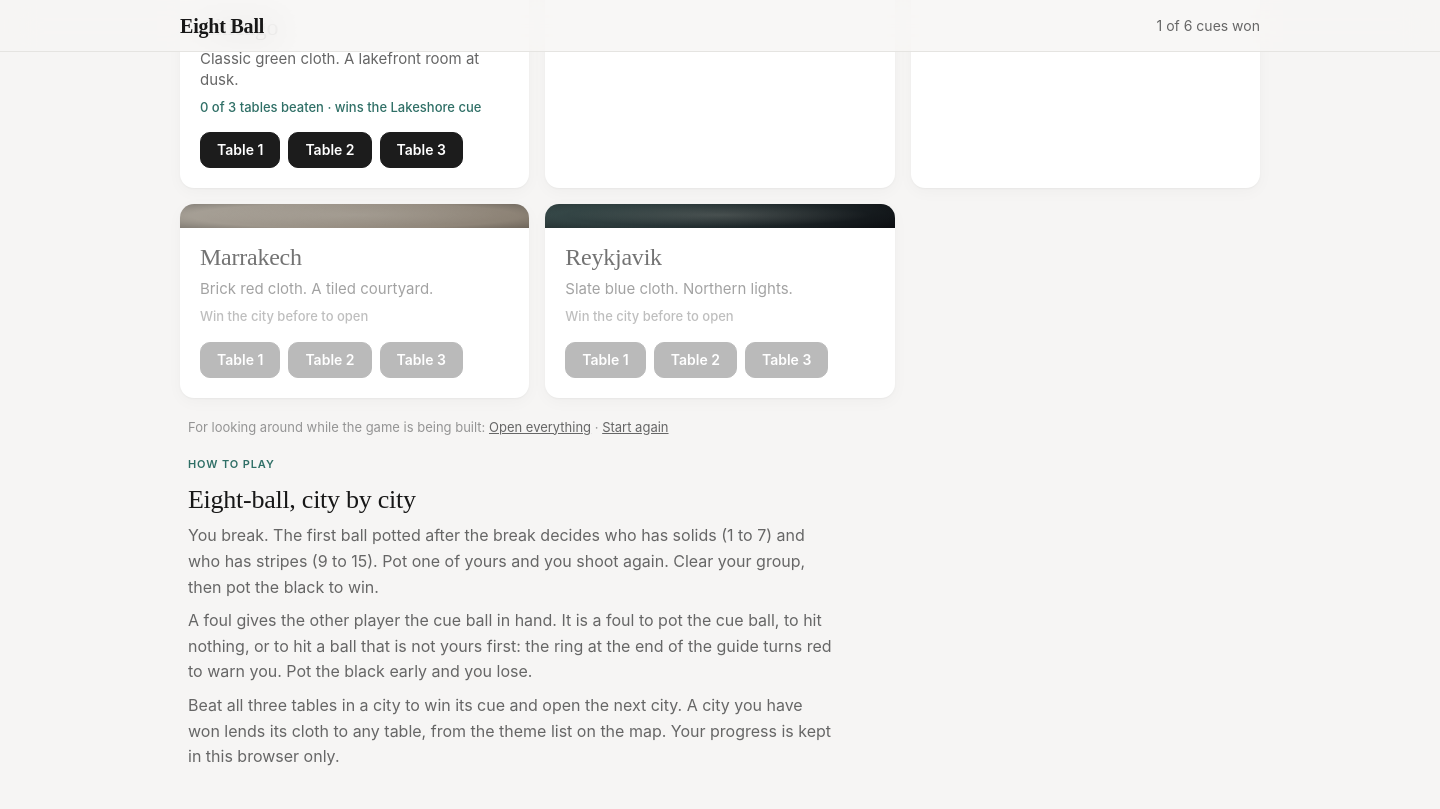
Test: the map › opens everything, and starts again
(page scrolled)
Click the button "Open everything".
click(540, 427)  # box [489,418,591,436]
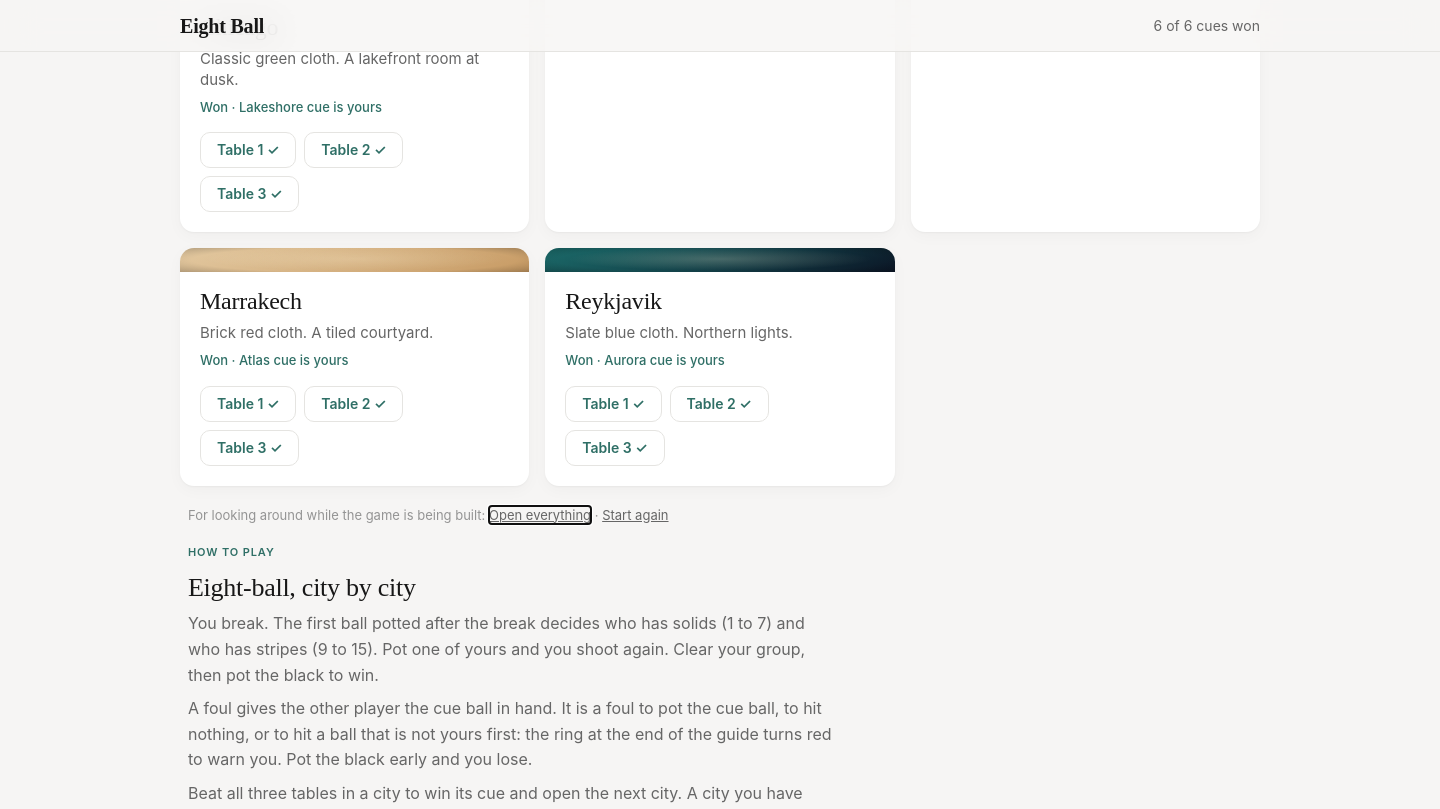
Now the button with aria-label "Reykjavik, table 3, beaten" is enabled, box [565,430,665,466]
Now the text "6 of 6 cues won" is shown, box [1154,16,1260,35]
Click the button "Start again".
click(635, 515)  # box [602,506,669,524]
(page scrolled)
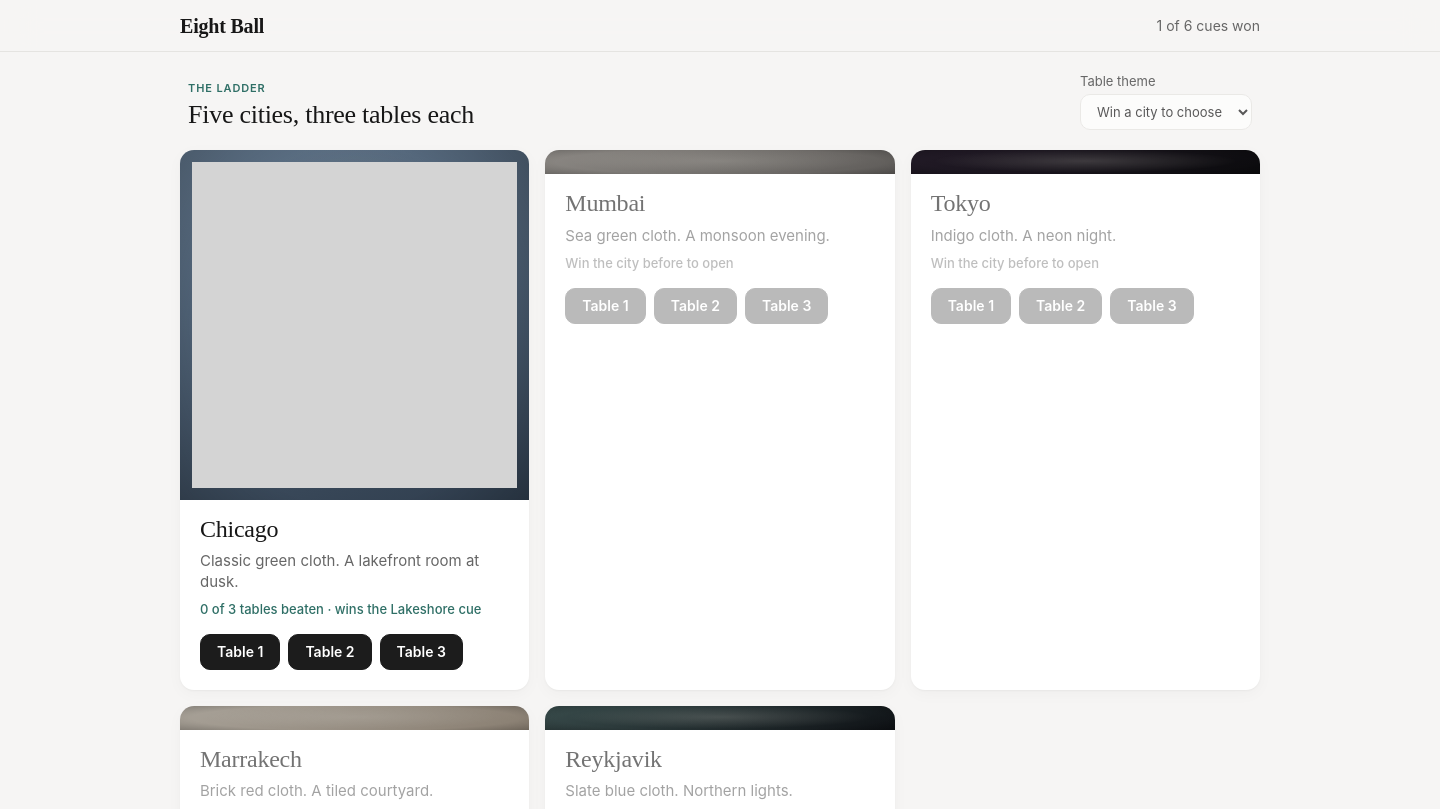
Now the button with aria-label "Mumbai, table 1" is disabled, box [565,288,646,324]
